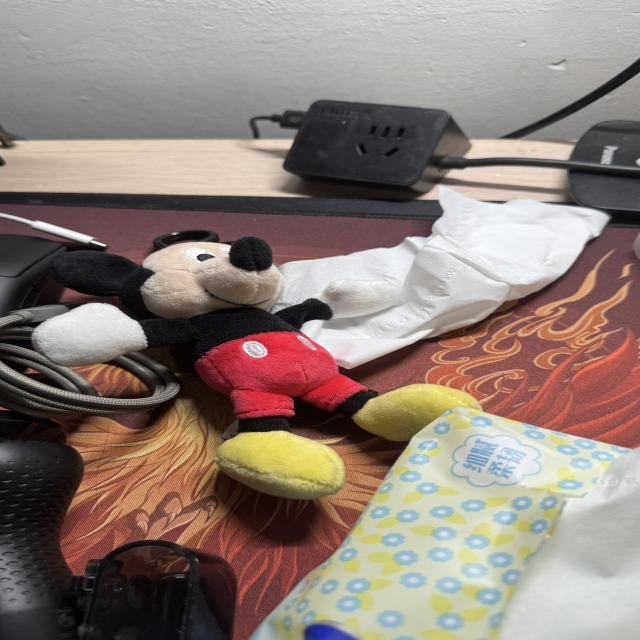mickey: (33, 237, 480, 498)
